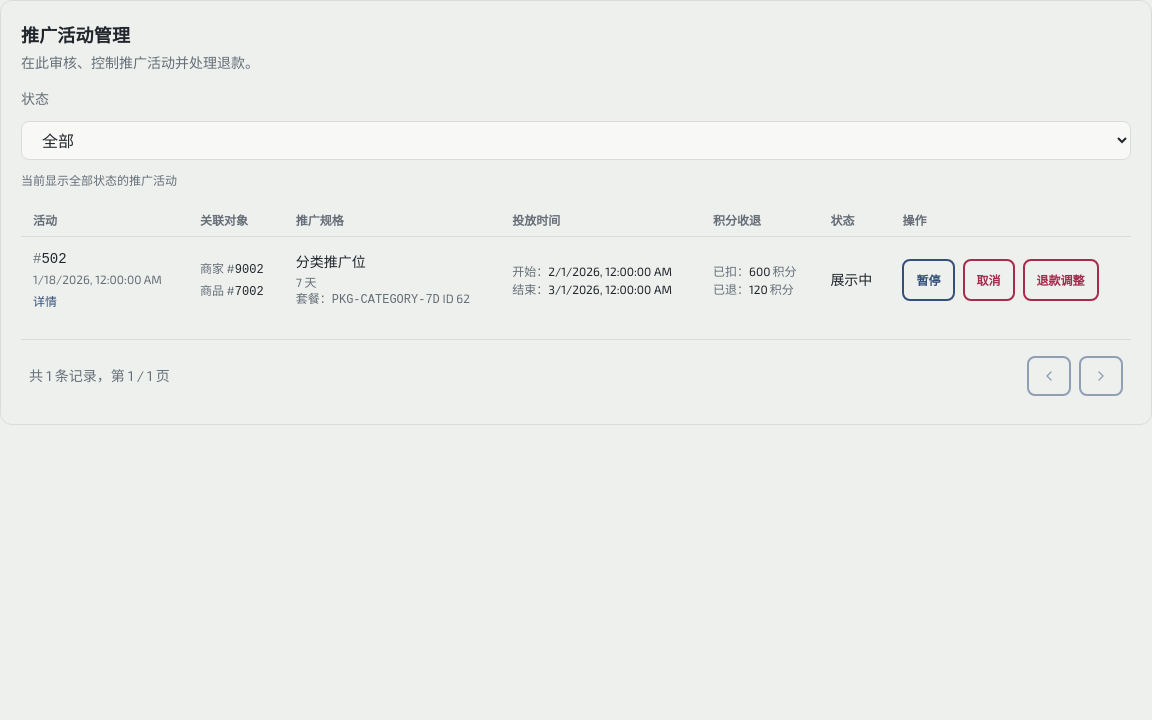
Test: AdminPromotionCampaignManager (refund-adjustment) › active refund typed API error IDEMPOTENCY_KEY_REUSED keeps the dialog with the exact copy "幂等请求内容冲突，请重新确认后再试。" (no success, no refresh)
Check: the table named "推广活动列表" is shown, box 21,204 -> 1131,323
Click the button with aria-label "退款调整（活动 ID 502）".
click(1060, 280)  # box 1022,259 -> 1098,301
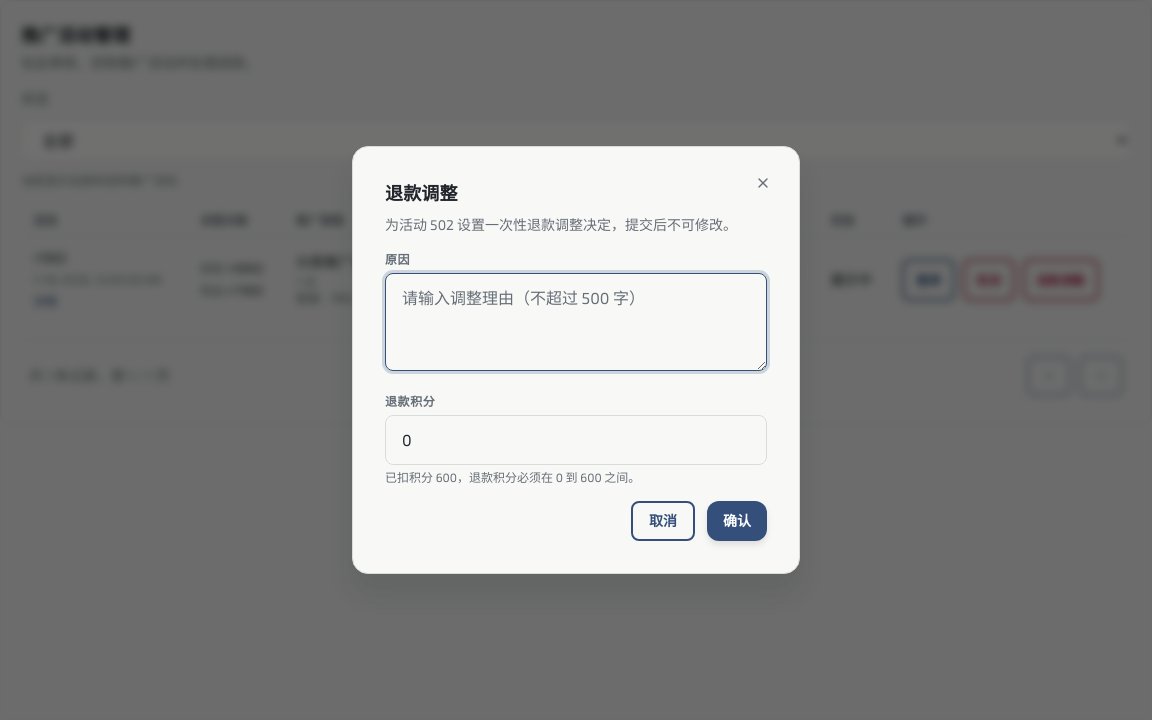
Type "120" into the field labelled "退款积分".
click(576, 440); type("120")  # box 385,415 -> 767,465
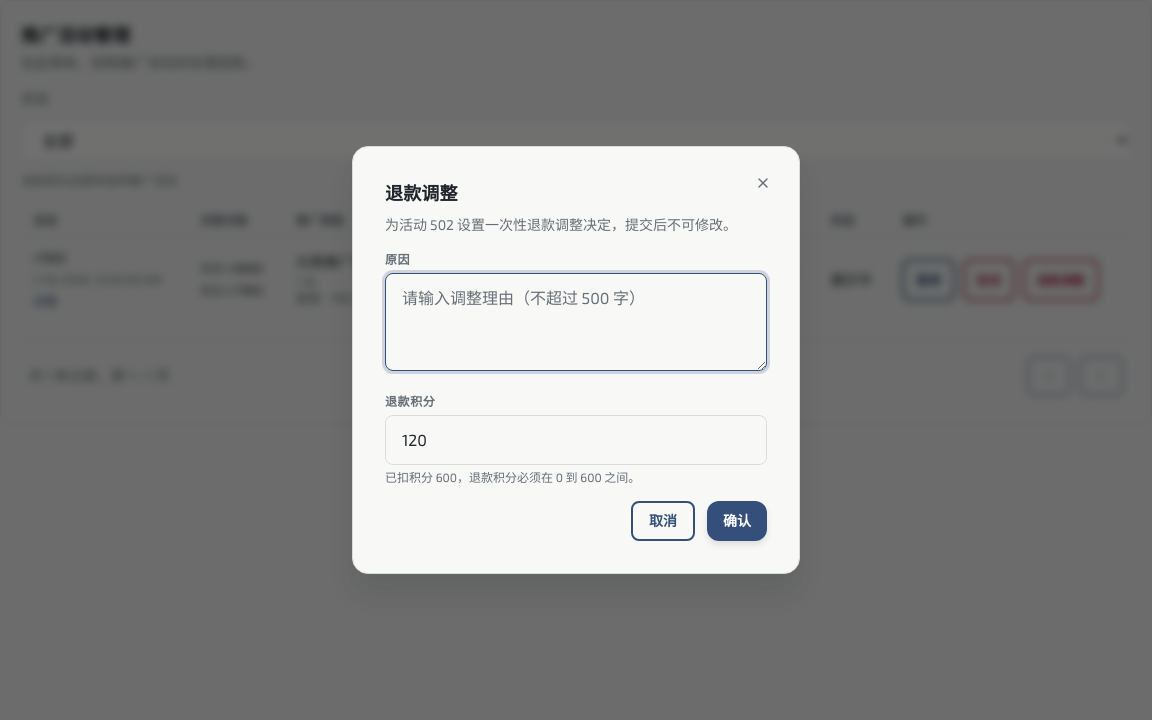
Type "商家申请调整" into the text box labelled "原因".
click(576, 322); type("商家申请调整")  # box 385,273 -> 767,371
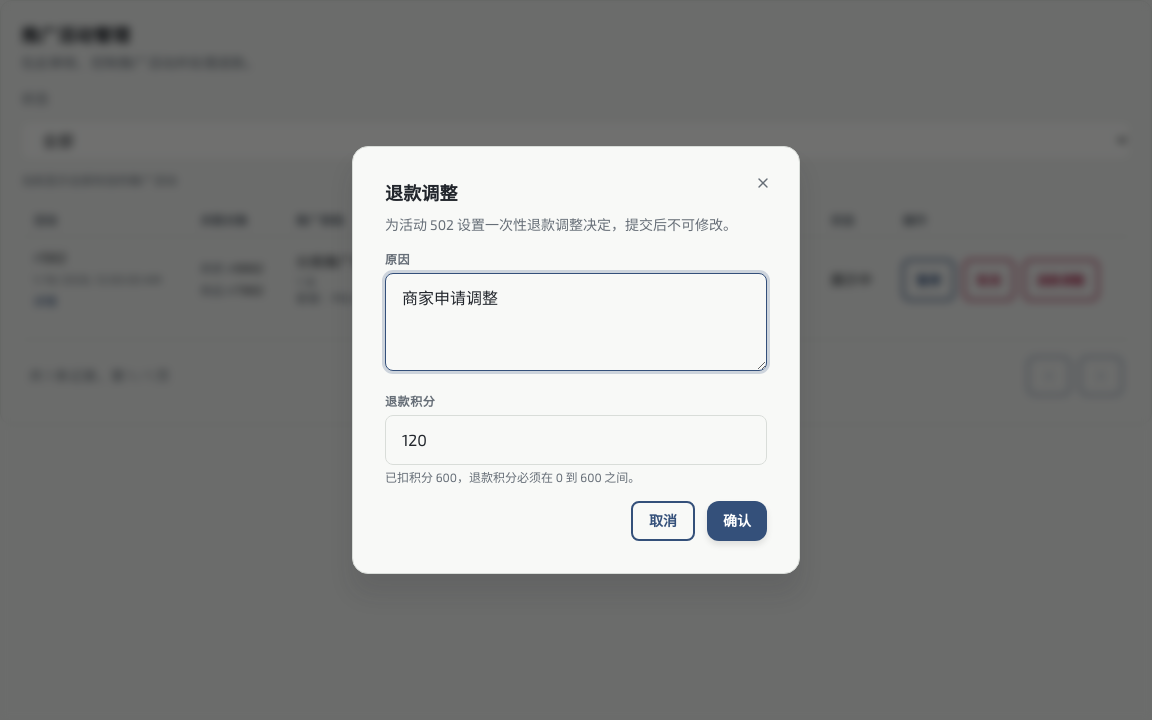
Click the button "确认".
click(737, 521)  # box 707,501 -> 767,541
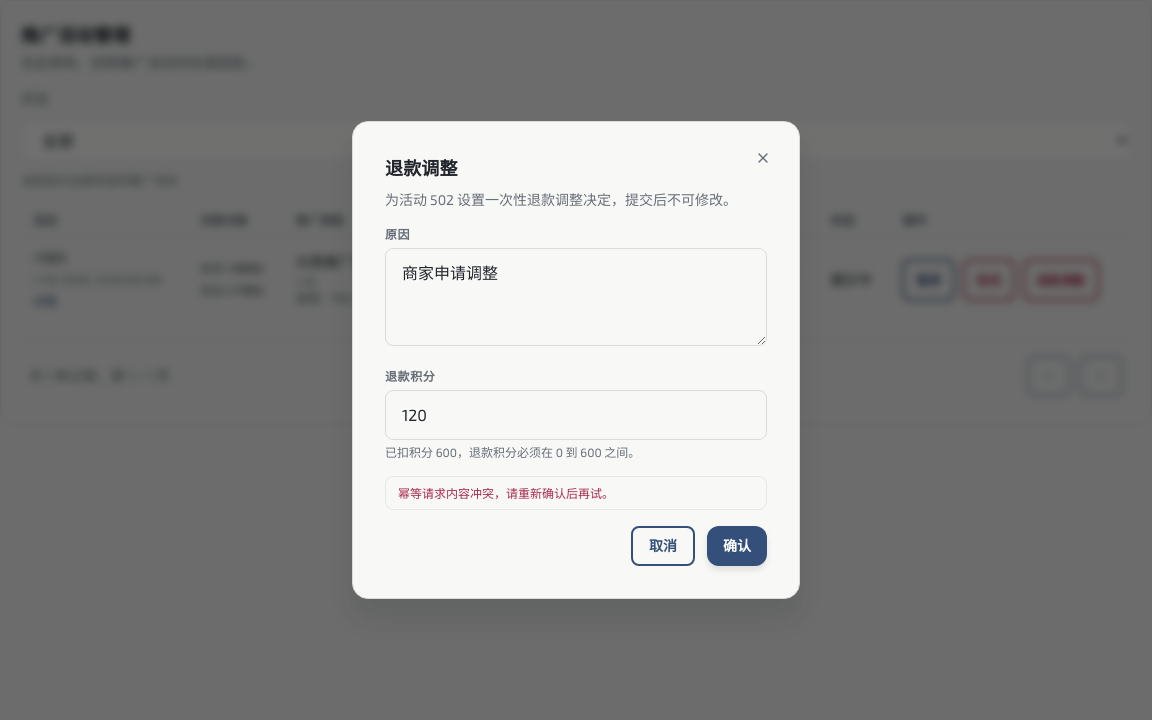
Check: the dialog "退款调整" is shown, box 352,121 -> 800,599
Check: the text "幂等请求内容冲突，请重新确认后再试。" is shown, box 385,476 -> 767,510
Check: the message reads "幂等请求内容冲突，请重新确认后再试。", box 398,486 -> 614,500
